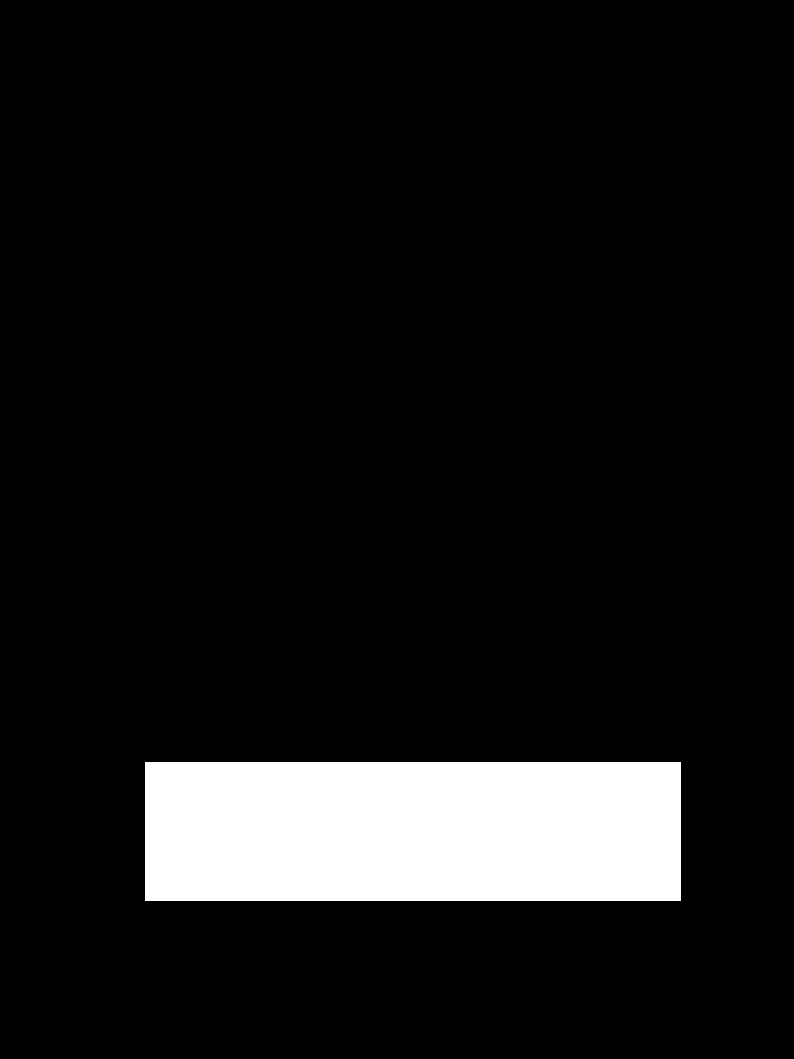table: (145, 762, 680, 900)
